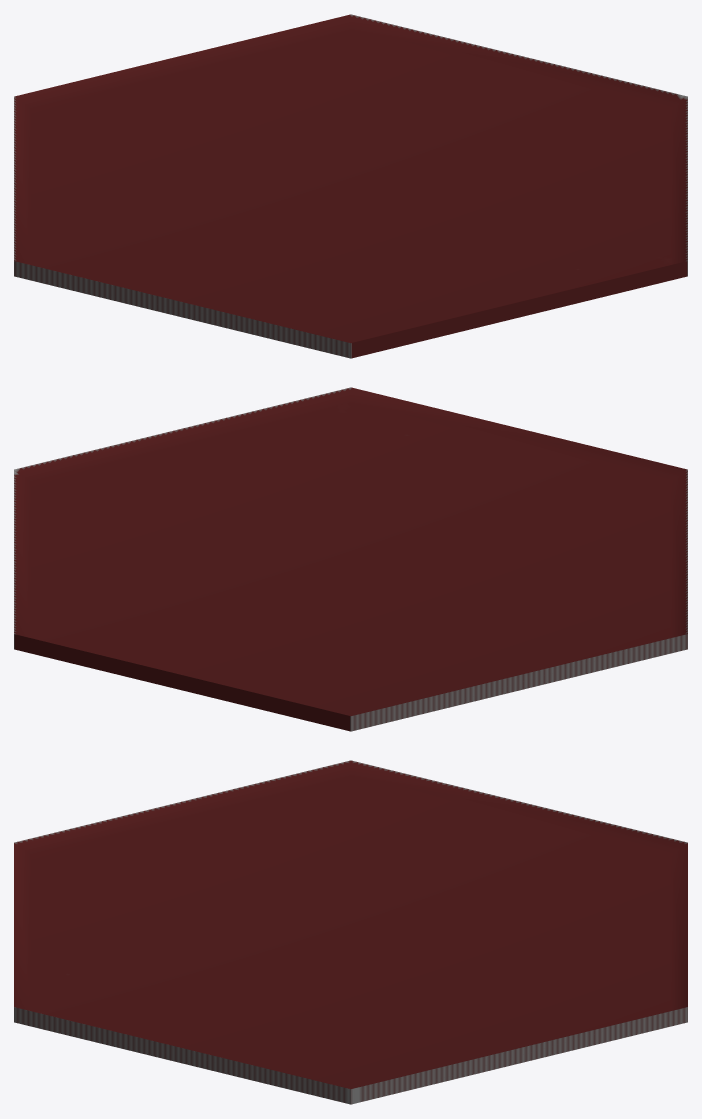
Rendered from highlands_empty_hex.obj.
3 views of the same model, one above another, from view 1: azimuth 30°, elevation 25°; view 2: azimuth 150°, elevation 25°; view 3: azimuth 270°, elevation 25° (orthographic).
Parts seen in each view (by area): view 1: pCylinder1; view 2: pCylinder1; view 3: pCylinder1.
Part boxes in pixels (x1=…): pCylinder1: x1=14, y1=14, x2=687, y2=358; pCylinder1: x1=14, y1=387, x2=687, y2=731; pCylinder1: x1=14, y1=760, x2=687, y2=1104.
Bounding box in the file's own units: 6.92 × 0.1506 × 6.
